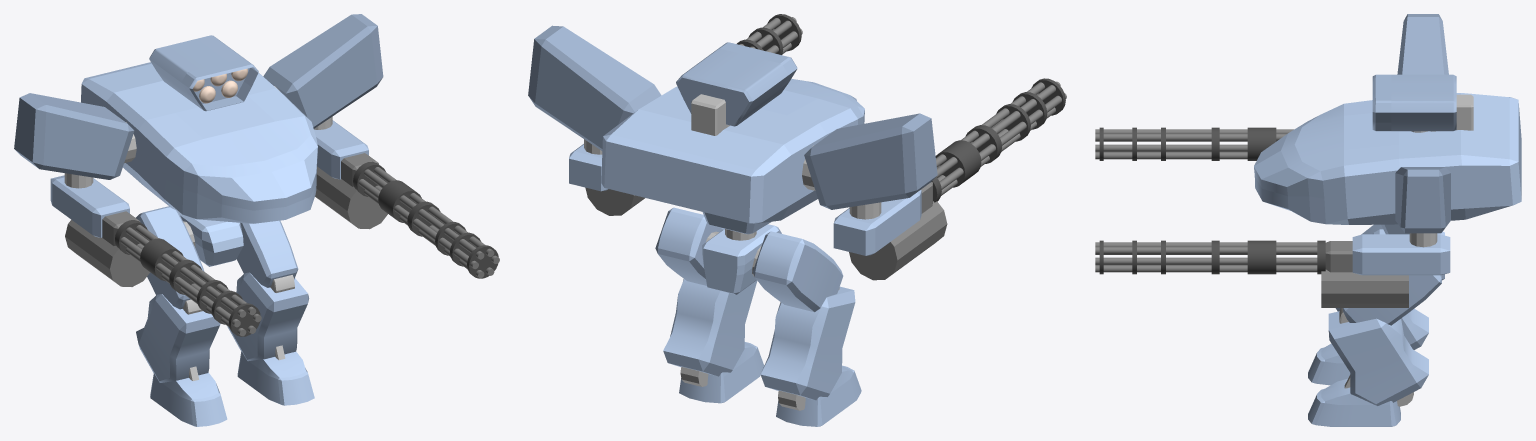
File: enemy1.fbx
3 renders of one model, left to right at view 1: azimuth 30°, elevation 25°; view 2: azimuth 150°, elevation 25°; view 3: azimuth 270°, elevation 25°, orthographic. The views are drawn at different scales.
Visible parts, largest first — view 1: pCube15, pCube25 (×2), pCube20 (×2), pCube22 (×2), pCube17 (×2), pCylinder12 (×2), pCube31, pCube27 (×2), pCube16, pCylinder23 (×2), pCylinder16 (×2), pCylinder17 (×2) (+5 smaller); view 2: pCube15, pCube25 (×2), pCube20 (×2), pCube17 (×2), pCube31, pCube27 (×2), pCube22 (×2), pCylinder12 (×2), pCube16, pCube32, pCylinder23, pCylinder15 (+4 smaller); view 3: pCube15, pCube20 (×2), pCube25 (×2), pCube31, pCube22 (×2), pCube27, pCylinder12, pCylinder17 (×2), pCylinder16 (×2), pCylinder23 (×2), pCube17, pCylinder15 (+5 smaller).
Part boxes in pixels (left/top/right/bottom): pCube15: left=81, top=62, right=317, bottom=223; pCube25 (×2): left=14, top=14, right=383, bottom=179; pCube20 (×2): left=136, top=272, right=309, bottom=382; pCube22 (×2): left=150, top=351, right=314, bottom=426; pCube17 (×2): left=136, top=206, right=298, bottom=309; pCylinder12 (×2): left=65, top=166, right=387, bottom=286; pCube31: left=149, top=35, right=258, bottom=111; pCube27 (×2): left=50, top=120, right=368, bottom=237; pCube16: left=178, top=211, right=243, bottom=266; pCylinder23 (×2): left=140, top=180, right=421, bottom=281; pCylinder16 (×2): left=136, top=169, right=484, bottom=315; pCylinder17 (×2): left=126, top=167, right=494, bottom=317; pCube15: left=601, top=79, right=864, bottom=223; pCube25 (×2): left=528, top=25, right=937, bottom=209; pCube20 (×2): left=663, top=279, right=855, bottom=400; pCube17 (×2): left=655, top=207, right=843, bottom=312; pCube31: left=676, top=42, right=797, bottom=126; pCube27 (×2): left=569, top=144, right=921, bottom=255; pCube22 (×2): left=679, top=342, right=861, bottom=426; pCylinder12 (×2): left=585, top=187, right=947, bottom=280; pCube16: left=702, top=224, right=781, bottom=294; pCube32: left=691, top=94, right=729, bottom=135; pCylinder23: left=935, top=140, right=981, bottom=187; pCylinder15: left=939, top=93, right=1066, bottom=189; pCube15: left=1254, top=93, right=1521, bottom=224; pCube20 (×2): left=1328, top=308, right=1428, bottom=405; pCube25 (×2): left=1395, top=14, right=1450, bottom=233; pCube31: left=1372, top=74, right=1456, bottom=131; pCube22 (×2): left=1308, top=343, right=1400, bottom=426; pCube27: left=1352, top=234, right=1450, bottom=275; pCylinder12: left=1321, top=269, right=1408, bottom=307; pCylinder17 (×2): left=1095, top=129, right=1317, bottom=253; pCylinder16 (×2): left=1095, top=134, right=1317, bottom=246; pCylinder23 (×2): left=1247, top=127, right=1276, bottom=274; pCube17: left=1342, top=275, right=1441, bottom=325; pCylinder15: left=1095, top=257, right=1317, bottom=264.
Size of the model in its own units: 9.01 by 7.82 by 9.74.
